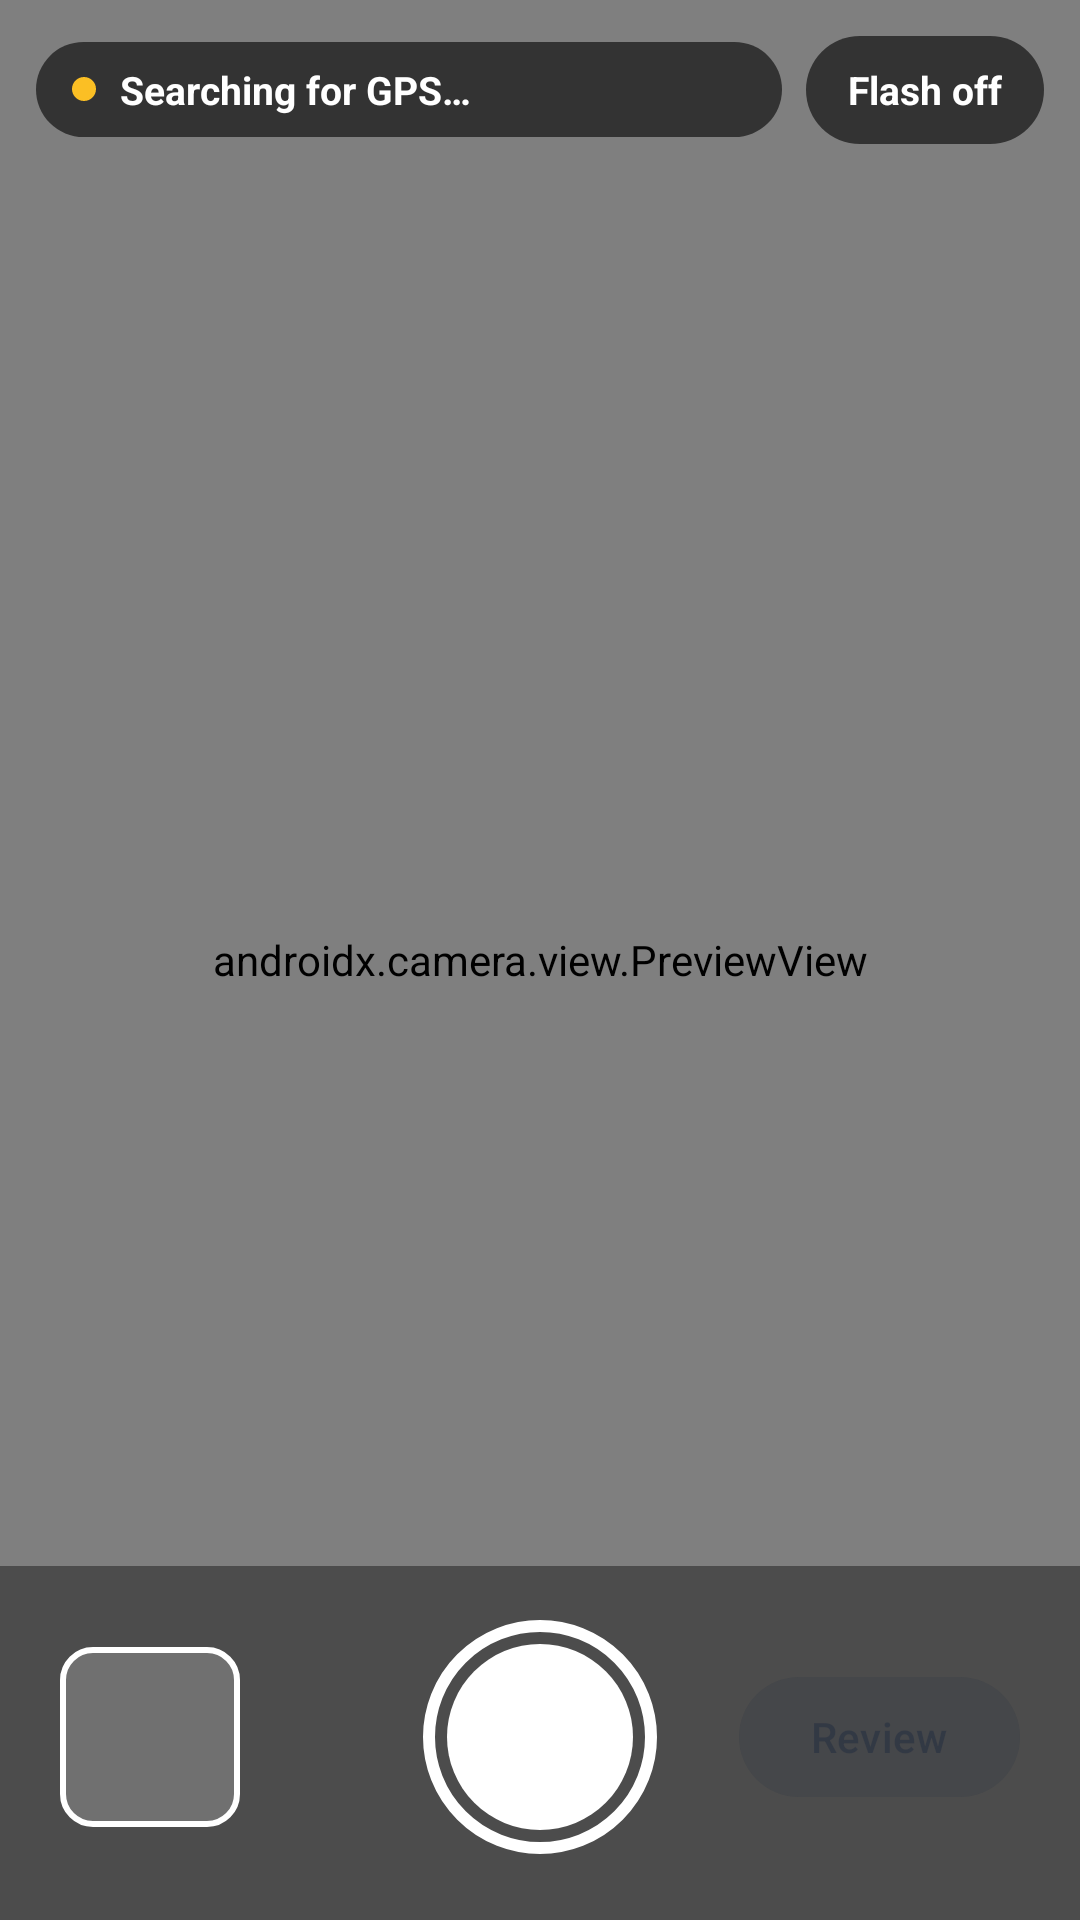

Named icons in this screenshot (1080*1920) and their bounding boxes, (x1, y1, x2, y2):
Take photo: (423, 1620, 657, 1854)
